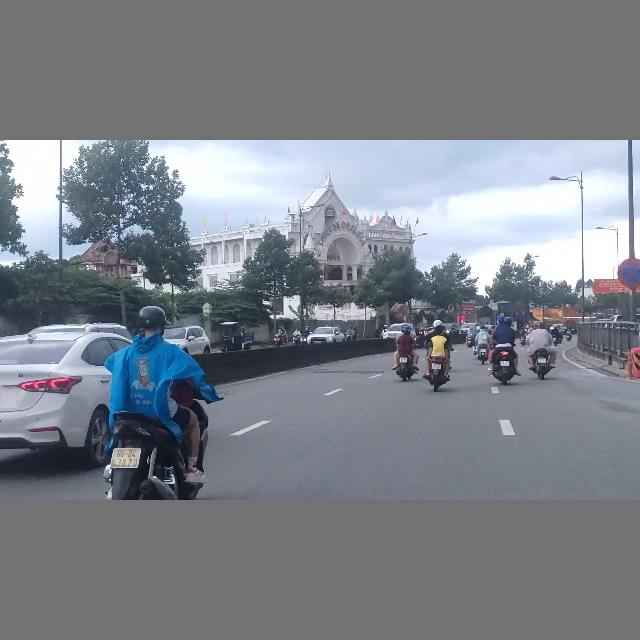P.130: (618, 258, 640, 288)
